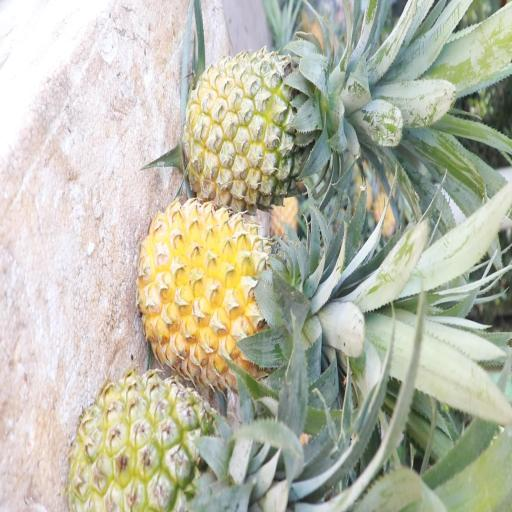------------------------------: (69, 371, 259, 512), (185, 52, 338, 200)
Pineapple - v8 v1: (140, 197, 314, 378)
